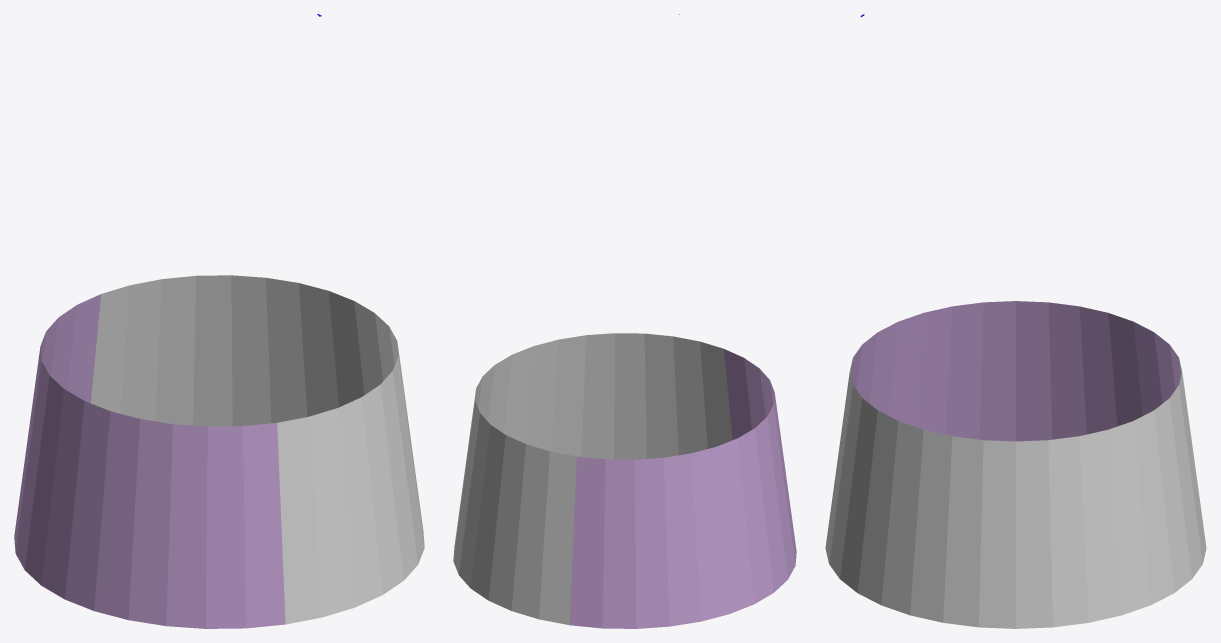
The model's file is FightPit.fbx.
3 renders of one model, left to right at view 1: azimuth 30°, elevation 25°; view 2: azimuth 150°, elevation 25°; view 3: azimuth 270°, elevation 25°, orthographic. The views are drawn at different scales.
Visible parts, largest first — view 1: Cylinder; view 2: Cylinder; view 3: Cylinder.
Boxes of the visible parts, box(x1,y1,x2,y2) form: Cylinder: box(14, 14, 424, 628); Cylinder: box(453, 14, 796, 628); Cylinder: box(825, 14, 1206, 628).
Size of the model in its own units: 526 by 824 by 526.
